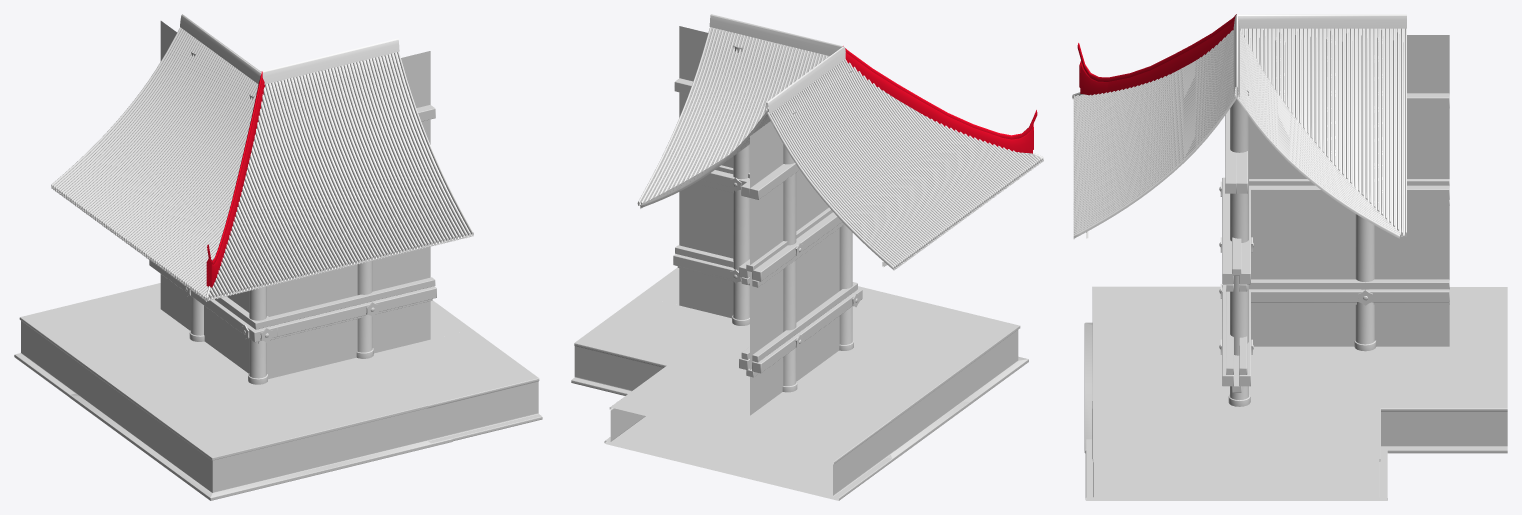
File: Wall Small Corner.fbx
3 renders of one model, left to right at view 1: azimuth 30°, elevation 25°; view 2: azimuth 150°, elevation 25°; view 3: azimuth 270°, elevation 25°, orthographic. The views are drawn at different scales.
Visible parts, largest first — view 1: S_Heiankyo_Building_Roof_Corner.003, S_Heiankyo_Building_Foundation_Corner.015, S_Heiankyo_Building_Foundation_Loop.047, S_Heiankyo_Building_WallClosed.145, S_Heiankyo_Building_Foundation_Loop.044, S_Heiankyo_Building_WallClosed.144, S_Heiankyo_Building_Bar_Big.1327, S_Heiankyo_Building_Bar_Big.1331, S_Heiankyo_Building_Pillar_2.110, S_Heiankyo_Building_Pillar_2.108, S_Heiankyo_Building_Bar_Big.1326, S_Heiankyo_Building_Pillar_2.106; view 2: S_Heiankyo_Building_Roof_Corner.003, S_Heiankyo_Building_Foundation_Loop.044, S_Heiankyo_Building_Foundation_Corner.015, S_Heiankyo_Building_WallClosed.144, S_Heiankyo_Building_Foundation_Loop.047, S_Heiankyo_Building_WallClosed.145, S_Heiankyo_Building_Pillar_2.106, S_Heiankyo_Building_Pillar_2.108, S_Heiankyo_Building_Bar_Big.1325, S_Heiankyo_Building_Bar_Big.1326, S_Heiankyo_Building_Pillar_2.110, S_Heiankyo_Building_Bar_Big.1322 (+4 smaller); view 3: S_Heiankyo_Building_Roof_Corner.003, S_Heiankyo_Building_Foundation_Loop.047, S_Heiankyo_Building_WallClosed.144, S_Heiankyo_Building_Foundation_Corner.015, S_Heiankyo_Building_Foundation_Loop.044, S_Heiankyo_Building_Pillar_2.108, S_Heiankyo_Building_Bar_Big.1326, S_Heiankyo_Building_Pillar_2.106, S_Heiankyo_Building_Bar_Big.1322, S_Heiankyo_Building_Bar_Big.1325, S_Heiankyo_Building_Bar_Big.1328, S_Heiankyo_Building_Bar_Big.1329 (+6 smaller).
Part boxes in pixels (x1,y1,x2,y2): S_Heiankyo_Building_Roof_Corner.003: (51, 14, 473, 301); S_Heiankyo_Building_Foundation_Corner.015: (69, 333, 452, 500); S_Heiankyo_Building_Foundation_Loop.047: (365, 300, 542, 443); S_Heiankyo_Building_WallClosed.145: (267, 51, 430, 379); S_Heiankyo_Building_Foundation_Loop.044: (14, 283, 189, 399); S_Heiankyo_Building_WallClosed.144: (160, 21, 249, 373); S_Heiankyo_Building_Bar_Big.1327: (256, 286, 436, 336); S_Heiankyo_Building_Bar_Big.1331: (248, 277, 435, 329); S_Heiankyo_Building_Pillar_2.110: (248, 94, 267, 384); S_Heiankyo_Building_Pillar_2.108: (356, 261, 373, 358); S_Heiankyo_Building_Bar_Big.1326: (149, 260, 277, 342); S_Heiankyo_Building_Pillar_2.106: (189, 52, 204, 341); S_Heiankyo_Building_Roof_Corner.003: (637, 14, 1043, 270); S_Heiankyo_Building_Foundation_Loop.044: (604, 362, 894, 500); S_Heiankyo_Building_Foundation_Corner.015: (667, 286, 1028, 461); S_Heiankyo_Building_WallClosed.144: (750, 121, 839, 415); S_Heiankyo_Building_Foundation_Loop.047: (571, 267, 740, 395); S_Heiankyo_Building_WallClosed.145: (679, 26, 733, 318); S_Heiankyo_Building_Pillar_2.106: (782, 111, 797, 392); S_Heiankyo_Building_Pillar_2.108: (732, 45, 749, 325); S_Heiankyo_Building_Bar_Big.1325: (739, 212, 841, 281); S_Heiankyo_Building_Bar_Big.1326: (739, 288, 862, 373); S_Heiankyo_Building_Pillar_2.110: (839, 70, 853, 350); S_Heiankyo_Building_Bar_Big.1322: (741, 283, 857, 362); S_Heiankyo_Building_Roof_Corner.003: (1072, 14, 1406, 238); S_Heiankyo_Building_Foundation_Loop.047: (1085, 400, 1387, 500); S_Heiankyo_Building_WallClosed.144: (1249, 35, 1449, 346); S_Heiankyo_Building_Foundation_Corner.015: (1084, 286, 1388, 453); S_Heiankyo_Building_Foundation_Loop.044: (1369, 287, 1507, 453); S_Heiankyo_Building_Pillar_2.108: (1228, 90, 1250, 406); S_Heiankyo_Building_Bar_Big.1326: (1222, 284, 1449, 302); S_Heiankyo_Building_Pillar_2.106: (1354, 206, 1376, 351); S_Heiankyo_Building_Bar_Big.1322: (1249, 279, 1449, 289); S_Heiankyo_Building_Bar_Big.1325: (1222, 177, 1449, 199); S_Heiankyo_Building_Bar_Big.1328: (1222, 179, 1250, 284); S_Heiankyo_Building_Bar_Big.1329: (1225, 109, 1247, 193).
Size of the model in its own units: 621 by 604 by 634.
